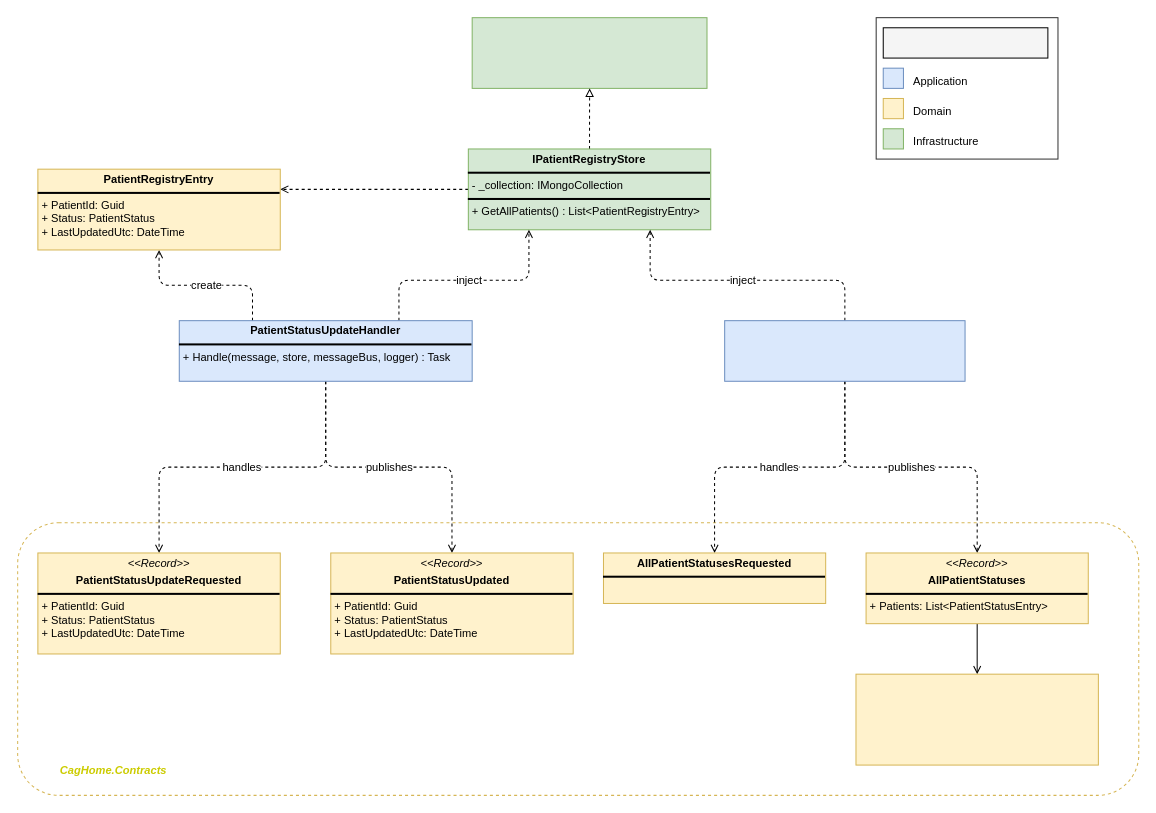
Some shapes in this 1156 by 813 pixel diagram are drawn without their labels. The box of each missing label's shape, as (x1, y1, x2, y2) in pixels:
<<Interface>> IPatientRegistryStore # UpdatePatientData(entry): UpdateResult: (471, 17, 707, 88)
<<Record>> PatientStatusEntry + PatientId: Guid + Status: PatientStatus: (855, 673, 1098, 765)
AllPatientStatusesRequestedHandler + Handle(request, store, logger) : Task: (724, 320, 965, 381)
Legend: (882, 27, 1048, 58)
